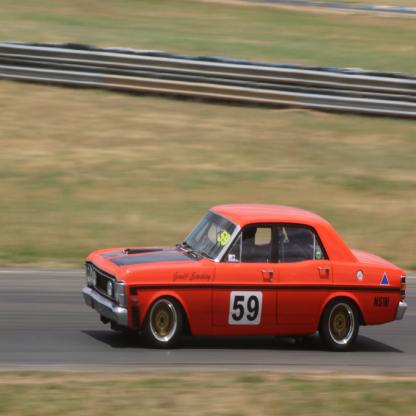Car: (82, 205, 409, 351)
